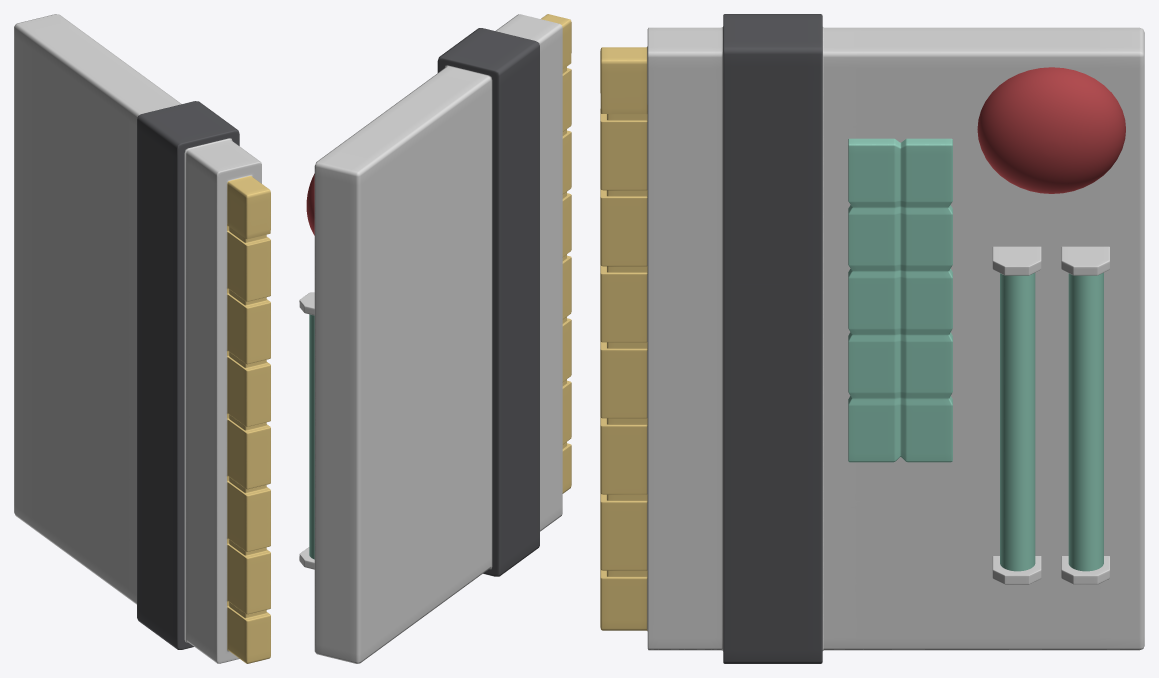
The model's file is ChipIndividual.fbx.
3 renders of one model, left to right at view 1: azimuth 30°, elevation 25°; view 2: azimuth 150°, elevation 25°; view 3: azimuth 270°, elevation 25°, orthographic. The views are drawn at different scales.
Parts seen in each view (by area): view 1: Chip_high; view 2: Chip_high; view 3: Chip_high.
Part boxes in pixels (x1=…): Chip_high: x1=14, y1=14, x2=270, y2=663; Chip_high: x1=299, y1=14, x2=571, y2=663; Chip_high: x1=600, y1=14, x2=1144, y2=663.
Size of the model in its own units: 0.139 by 0.7661 by 0.6128.
